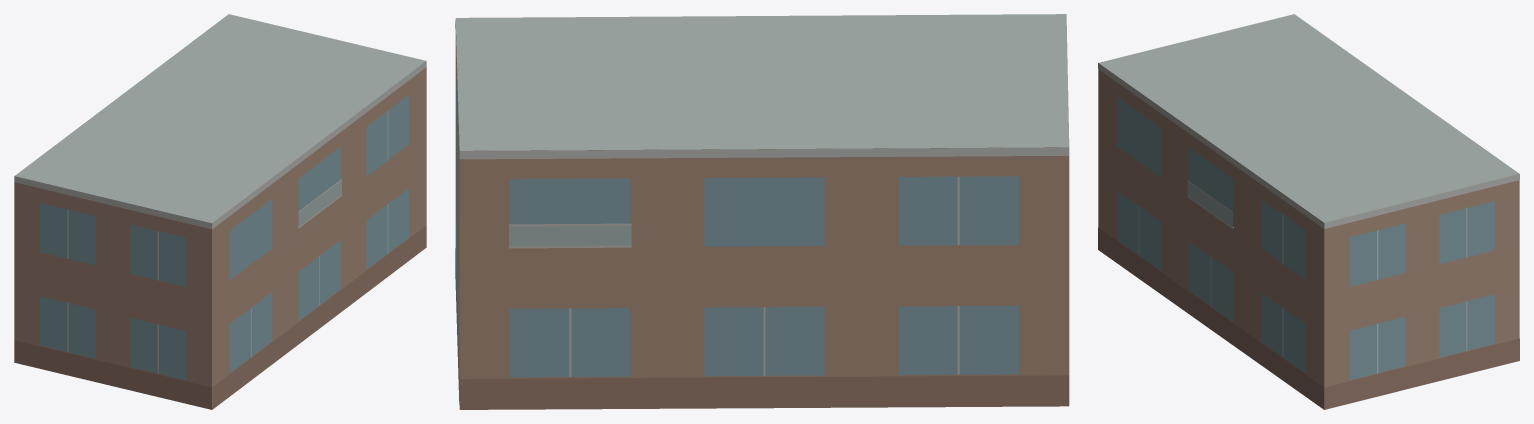
The model's file is survey-upis-32988318.glb.
3 renders of one model, left to right at view 1: azimuth 30°, elevation 25°; view 2: azimuth 150°, elevation 25°; view 3: azimuth 270°, elevation 25°, orthographic. The views are drawn at different scales.
Parts seen in each view (by area): view 1: survey-upis-32988318.tmp; view 2: survey-upis-32988318.tmp; view 3: survey-upis-32988318.tmp.
Boxes of the visible parts, <box> form: survey-upis-32988318.tmp: <box>14,14,426,409</box>; survey-upis-32988318.tmp: <box>455,14,1069,409</box>; survey-upis-32988318.tmp: <box>1098,14,1519,409</box>.
Bounding box in the file's own units: 17.79 × 7.42 × 15.17.
